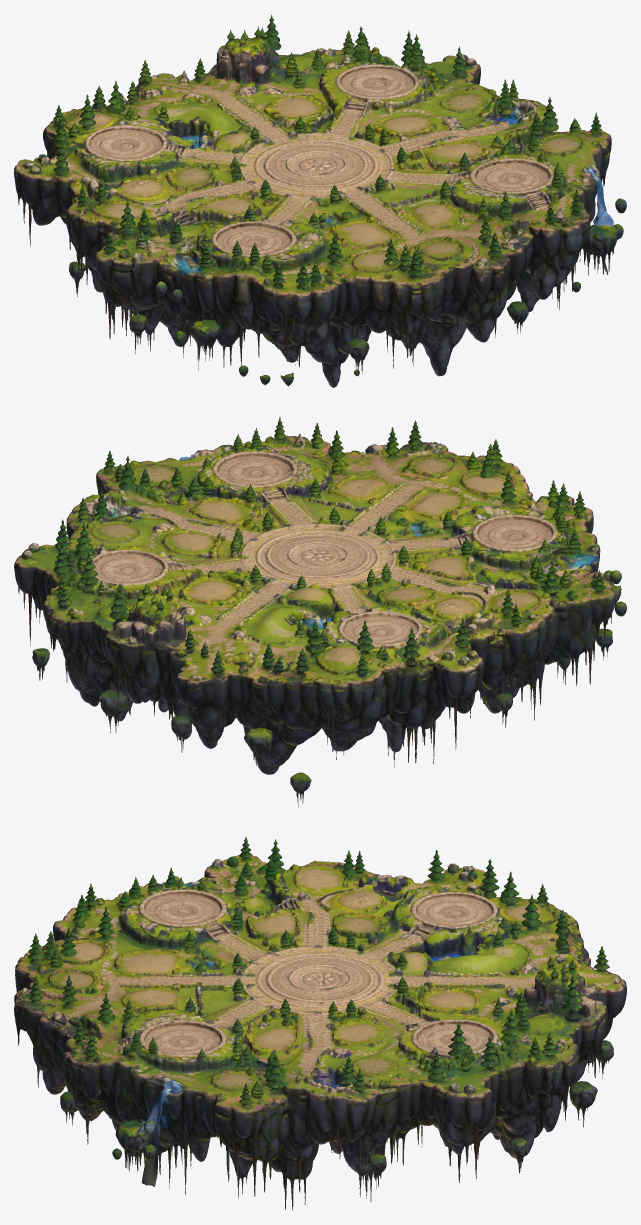
File: Hub_Base_balanced_15mb.glb
3 renders of one model, top to bottom at view 1: azimuth 30°, elevation 25°; view 2: azimuth 150°, elevation 25°; view 3: azimuth 270°, elevation 25°, orthographic. The views are drawn at different scales.
Size of the model in its own units: 1.9 by 0.7993 by 1.9.
1 material, 1 textured.
